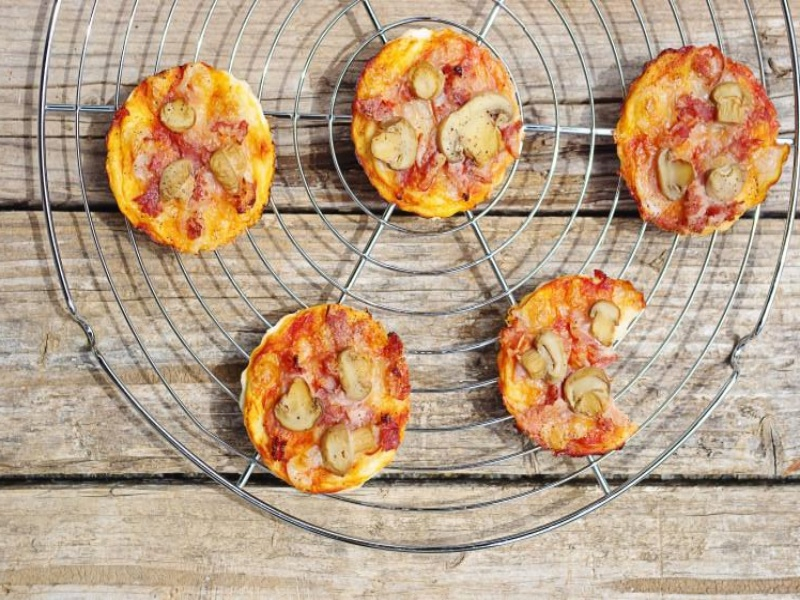champignon: (435, 89, 516, 167)
